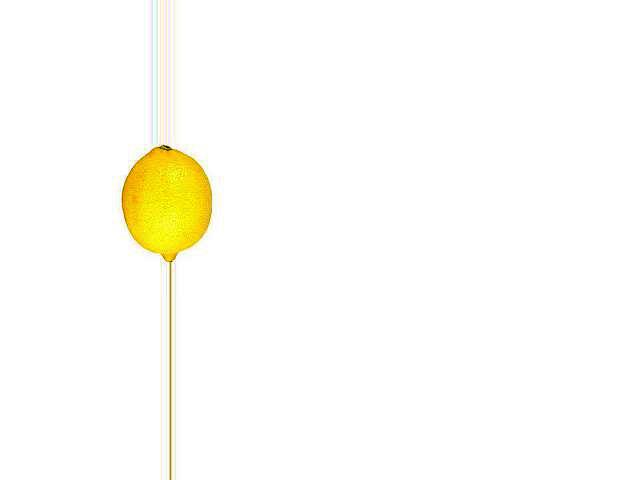lemon: (122, 145, 213, 262)
